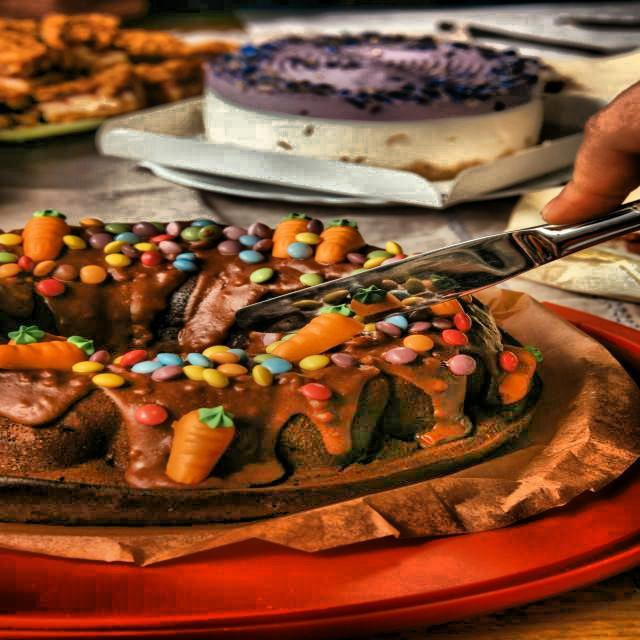knife: (216, 200, 640, 342)
